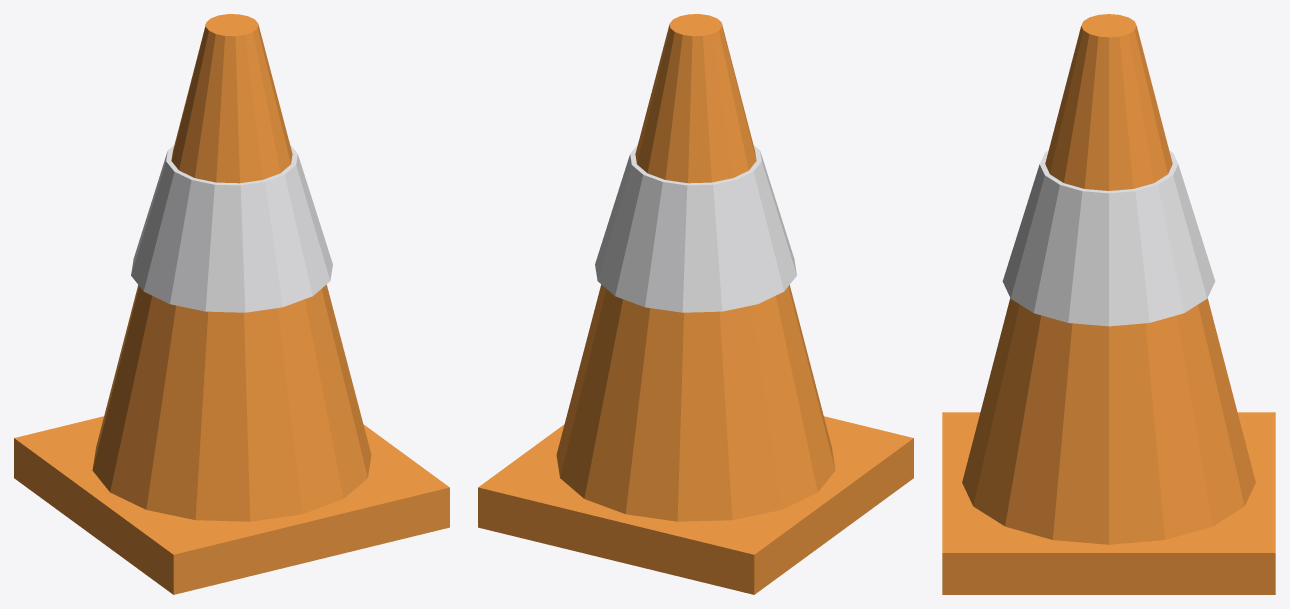
3 renders of one model, left to right at view 1: azimuth 30°, elevation 25°; view 2: azimuth 150°, elevation 25°; view 3: azimuth 270°, elevation 25°, orthographic. The views are drawn at different scales.
Parts seen in each view (by area): view 1: bt-fh6-cone_body, bt-fh6-cone_base, bt-fh6-cone_band; view 2: bt-fh6-cone_body, bt-fh6-cone_base, bt-fh6-cone_band; view 3: bt-fh6-cone_body, bt-fh6-cone_base, bt-fh6-cone_band.
Boxes of the visible parts, <box> form: bt-fh6-cone_body: <box>92,14,371,521</box>; bt-fh6-cone_base: <box>14,416,449,594</box>; bt-fh6-cone_band: <box>131,144,332,312</box>; bt-fh6-cone_body: <box>556,14,835,521</box>; bt-fh6-cone_base: <box>478,416,913,594</box>; bt-fh6-cone_band: <box>595,144,796,312</box>; bt-fh6-cone_body: <box>962,14,1255,544</box>; bt-fh6-cone_base: <box>942,412,1275,594</box>; bt-fh6-cone_band: <box>1002,150,1215,326</box>.
Size of the model in its own units: 0.36 by 0.595 by 0.36.
